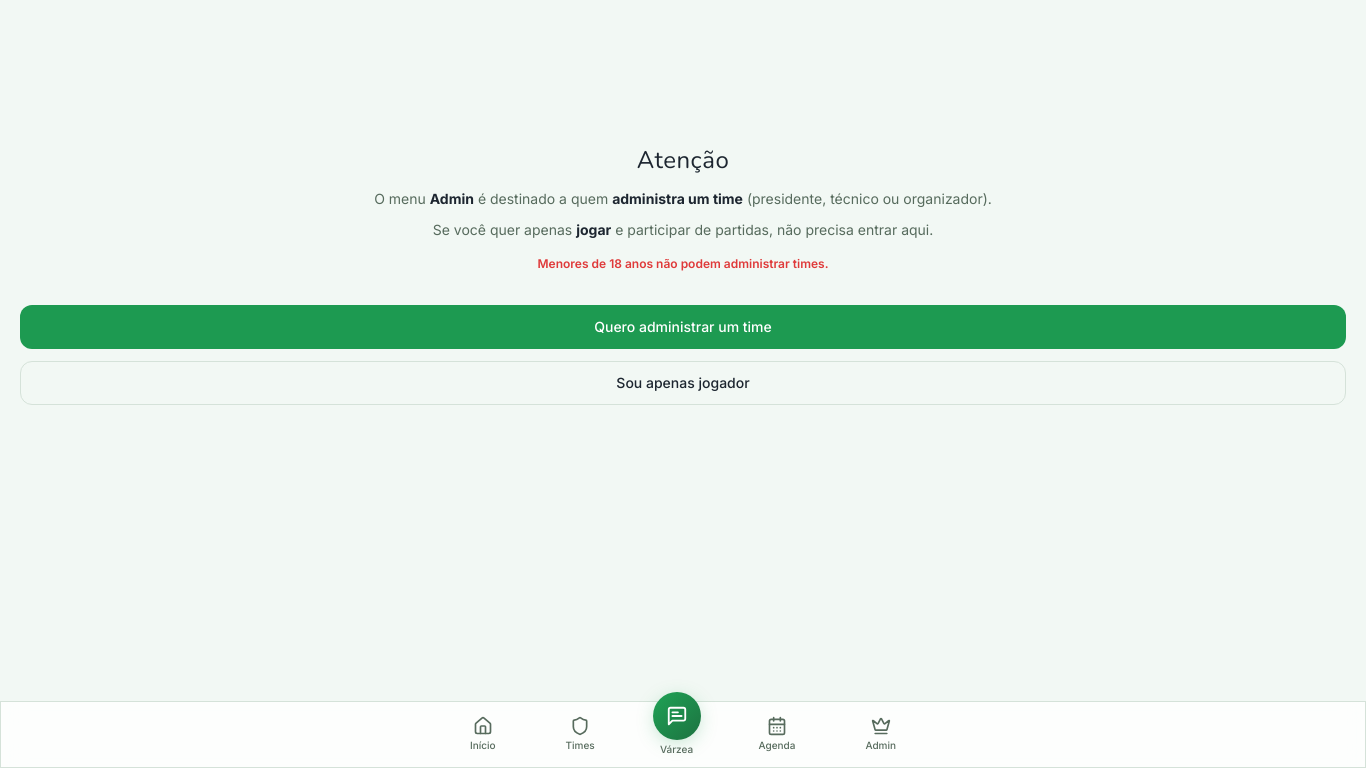
Test case: AdminGate (status: none) › avança para a tela do plano ao clicar em "Quero administrar um time"
This screenshot has width=1366, height=768.
Step 1. Click the button "Quero administrar um time" → [683, 327], box [20,305,1346,349]
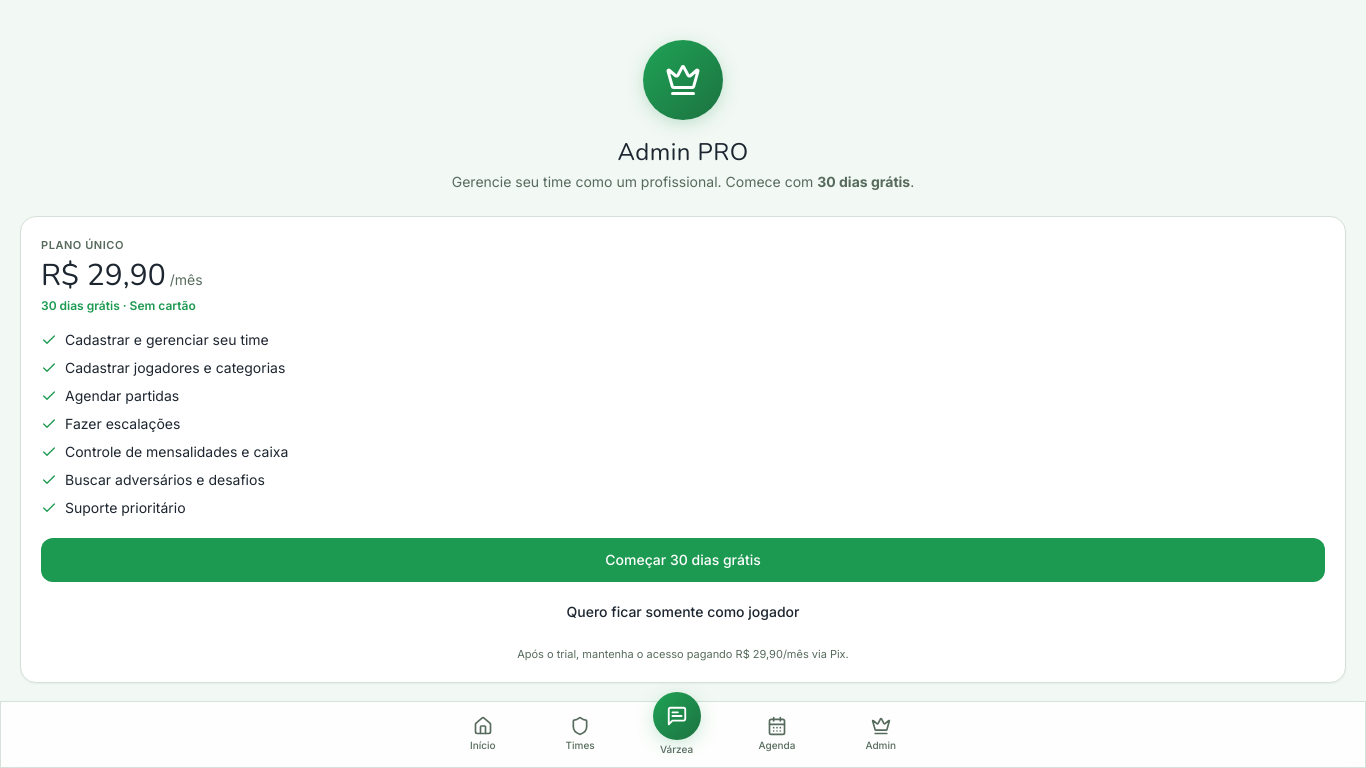
expect the heading "Admin PRO" is shown: met, box [617,136,749,168]
expect the text "R$ 29,90" is shown: met, box [41,258,166,294]
expect the button "Começar 30 dias grátis" is shown: met, box [41,538,1325,582]
